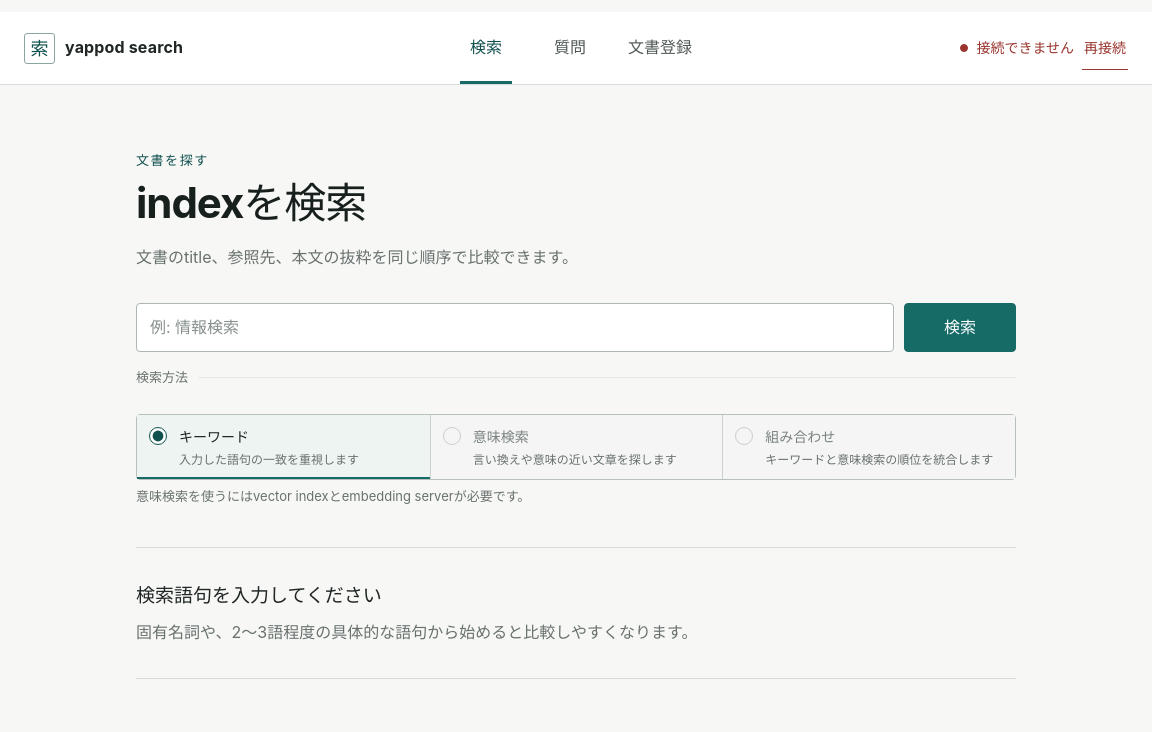
Scenario: yappod search UI › shows separate empty, validation, and daemon states
The image size is (1152, 732).
Check: the text "接続できません" is shown, box [976,36,1074,60]
Click the button with aria-label "検索を実行": click(960, 328) [904,303,1016,352]
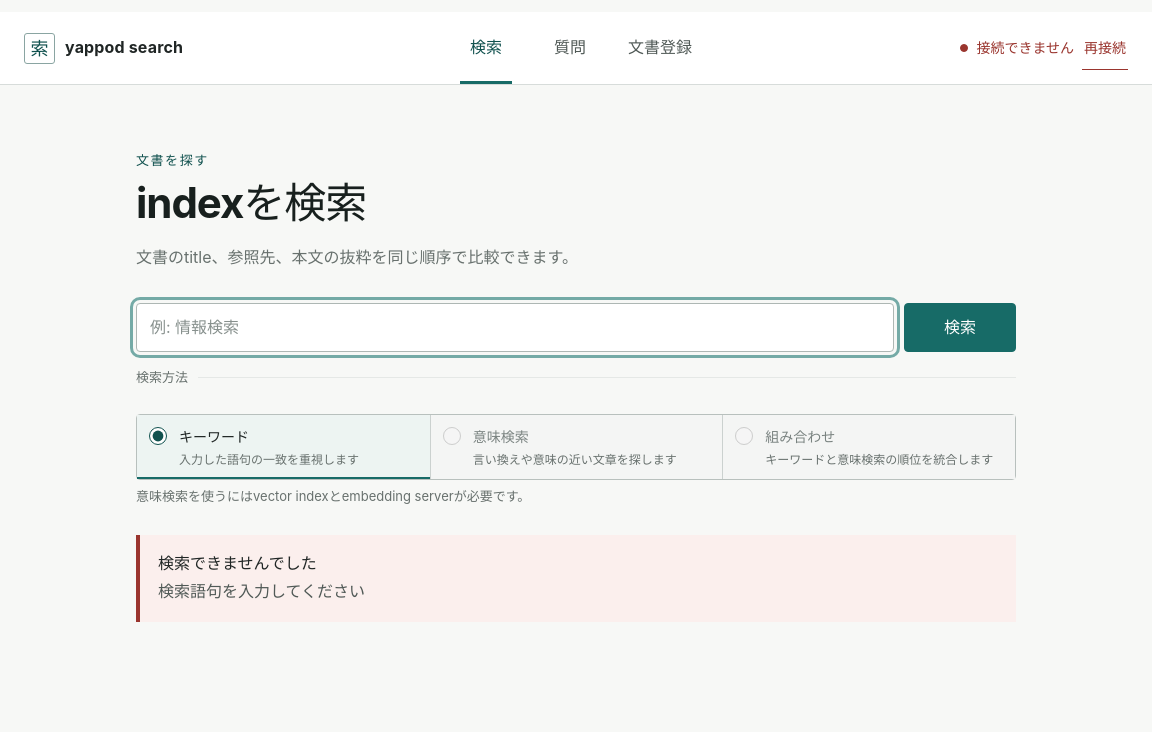
Check: the text "検索語句を入力してください" is shown, box [158,581,365,601]
In the search field named "検索語句": (515, 328) [136,303,894,352], type "該当なし"
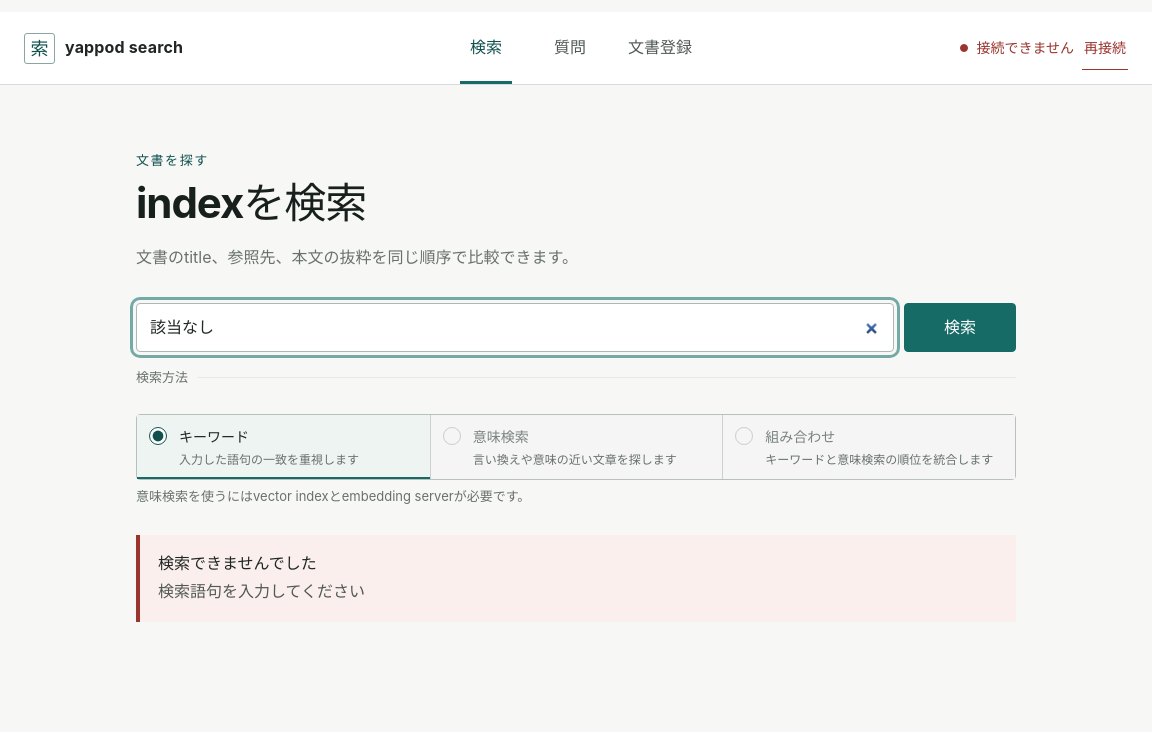
Click the button with aria-label "検索を実行": click(960, 328) [904,303,1016,352]
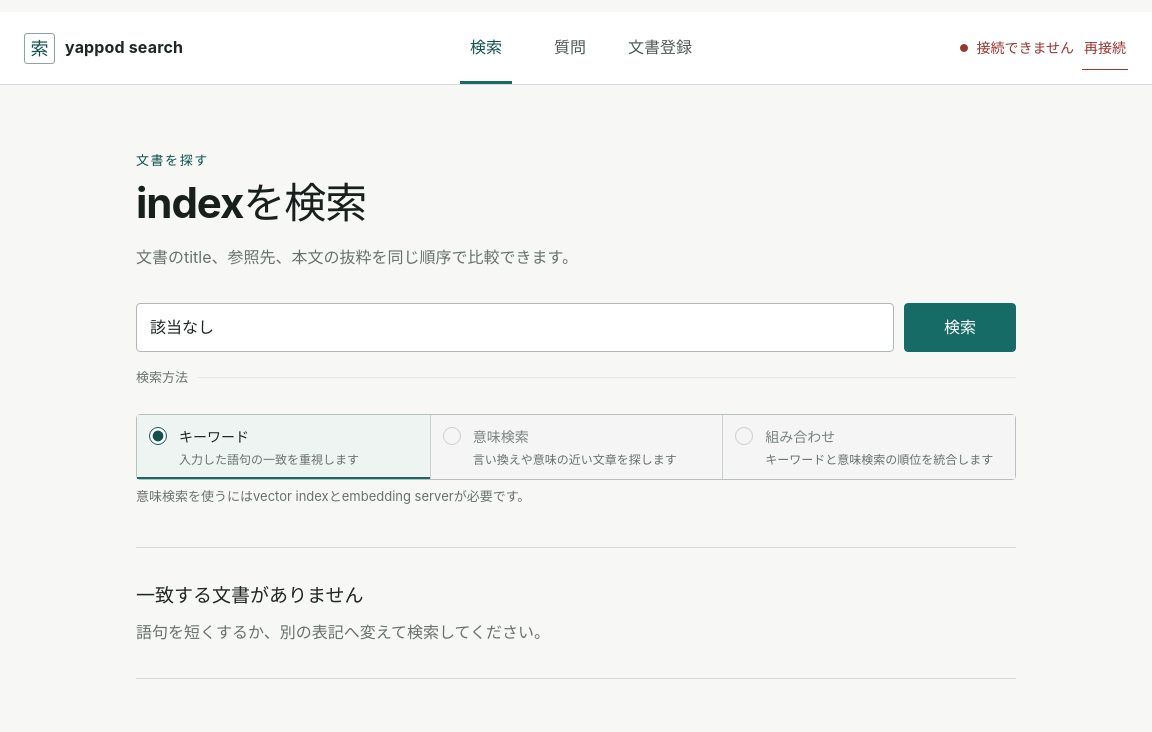
Check: the heading "一致する文書がありません" is shown, box [136,584,363,607]
